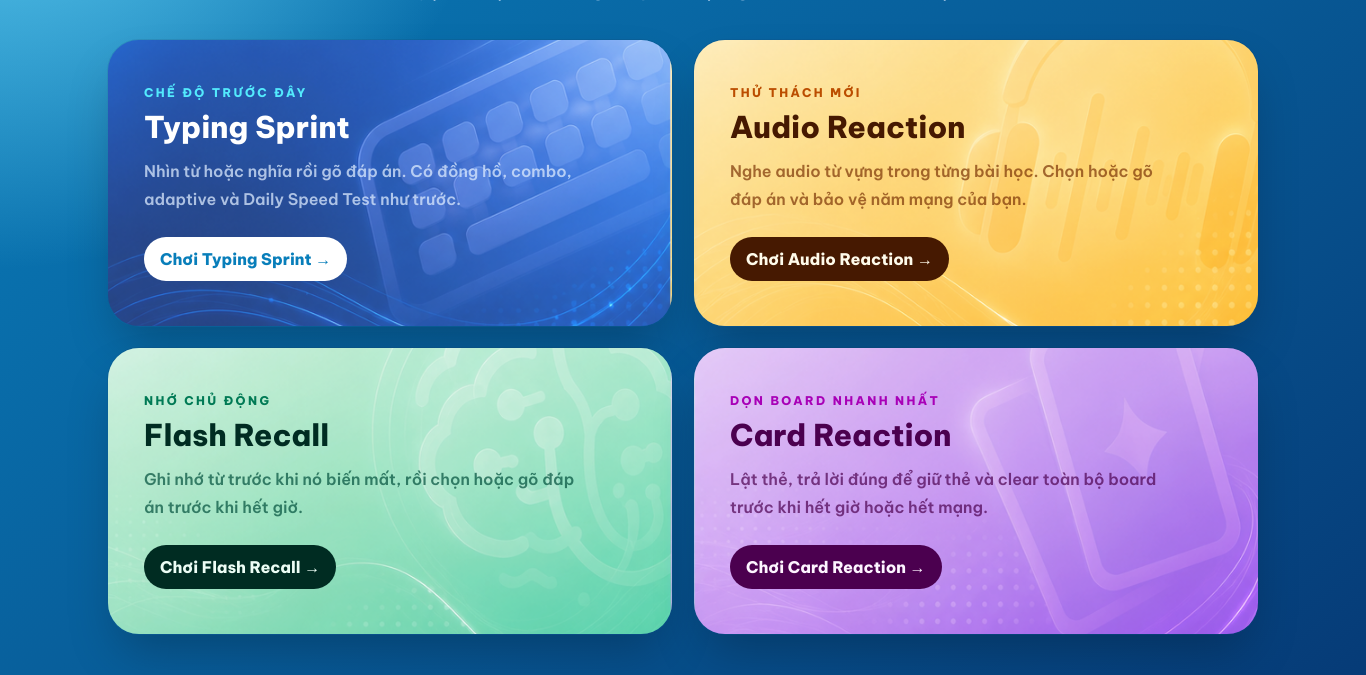
Scenario: SpeedTestArena › mở Flash Recall thành màn hình chọn lesson riêng
(page scrolled)
Click the button named "Chơi Flash Recall": (390, 491) [107, 347, 673, 635]
(page scrolled)
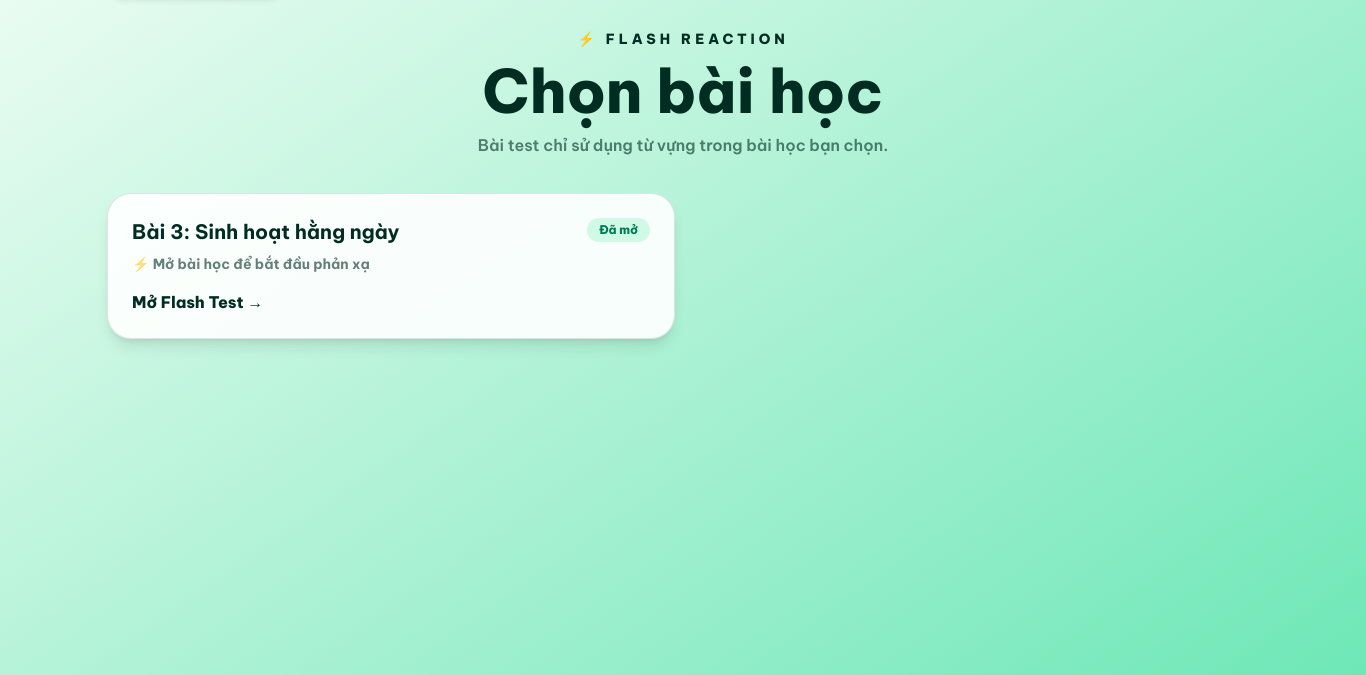
Expected: the heading "Chọn bài học" is shown, [482, 53, 883, 129]
